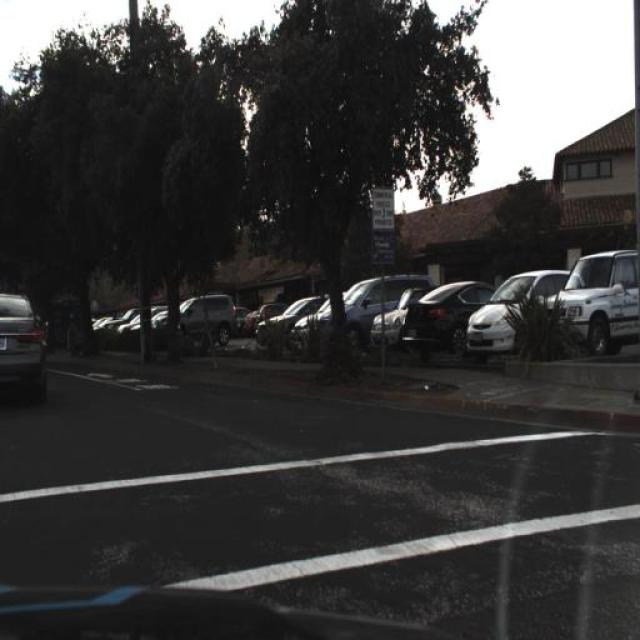car: (470, 269, 584, 360), (546, 248, 640, 358), (319, 273, 430, 348), (400, 275, 504, 354), (0, 286, 51, 422), (398, 281, 494, 343), (155, 292, 239, 352), (374, 273, 434, 352), (258, 294, 324, 352), (292, 292, 342, 342), (372, 286, 413, 340), (131, 305, 169, 353), (91, 309, 119, 356), (119, 305, 142, 349)
